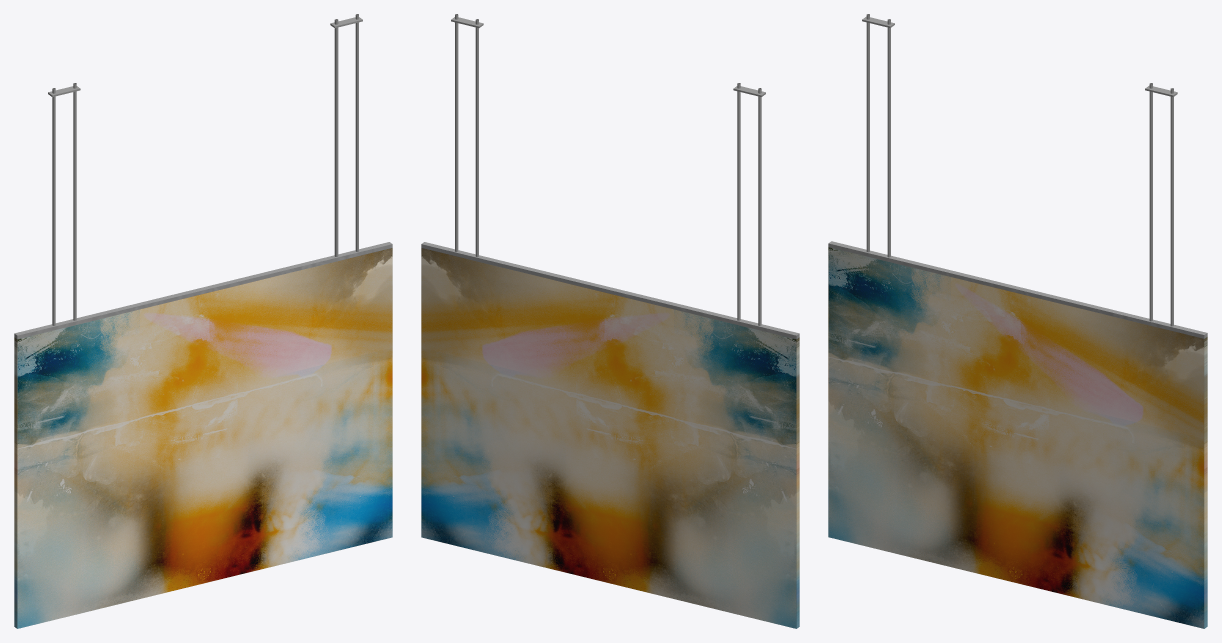
Rendered from Picture2.fbx.
3 renders of one model, left to right at view 1: azimuth 30°, elevation 25°; view 2: azimuth 150°, elevation 25°; view 3: azimuth 330°, elevation 25°, orthographic.
Parts seen in each view (by area): view 1: Empty_Mesh; view 2: Empty_Mesh; view 3: Empty_Mesh.
Boxes of the visible parts, x1,y1,x2,y2 form: Empty_Mesh: (14,14,392,628); Empty_Mesh: (421,14,799,628); Empty_Mesh: (828,14,1207,628).
Size of the model in its own units: 255 by 344 by 5.2.
